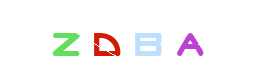A: (147, 0, 227, 80)
B: (96, 0, 176, 80)
D: (65, 0, 145, 80)
Z: (26, 0, 106, 80)
